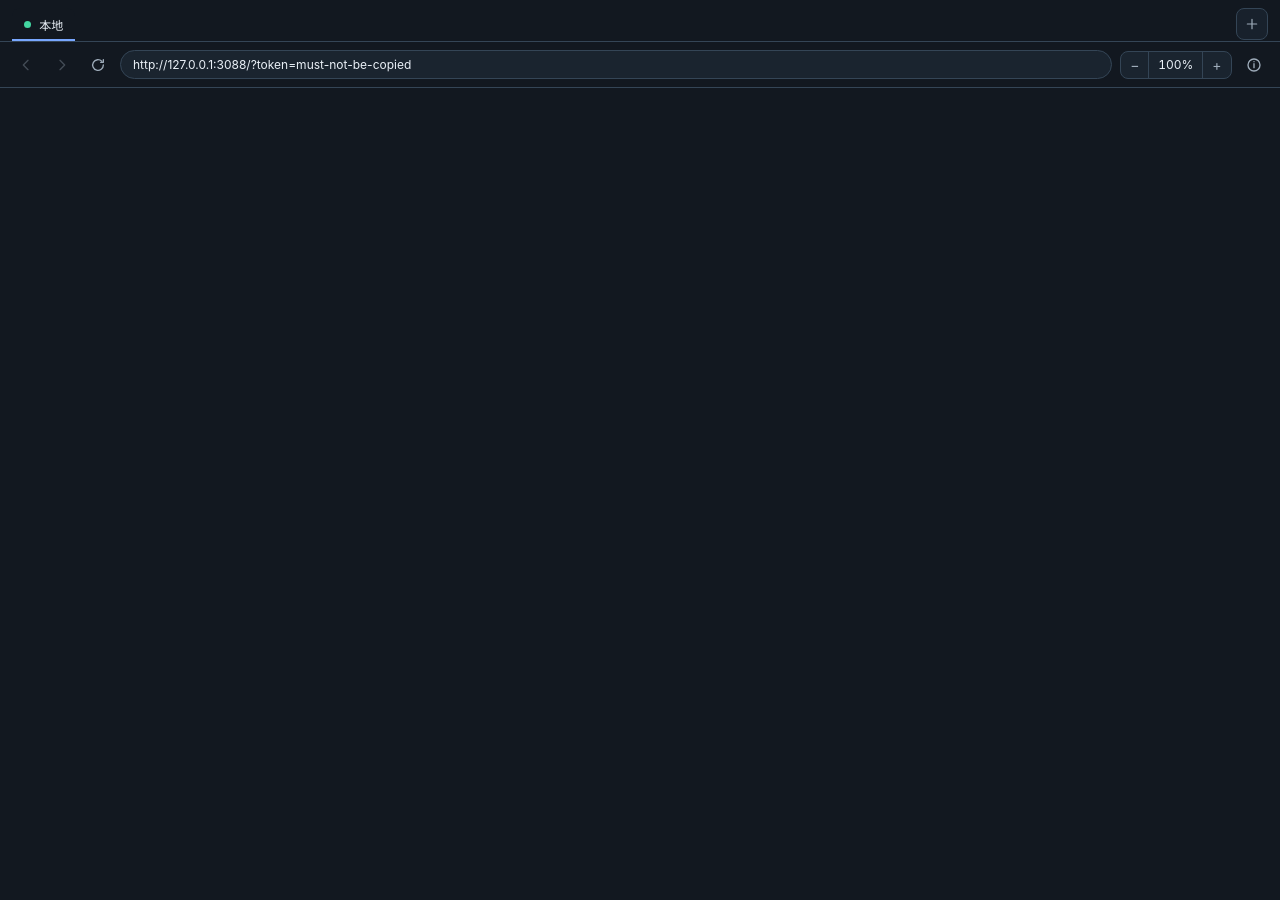
it: RuntimeTabsPanel rendering controls › lists a computer paired elsewhere while the menu stays open
Click the button with test id "runtime-add-tab" at (1252, 24), box [1236,8,1268,40]
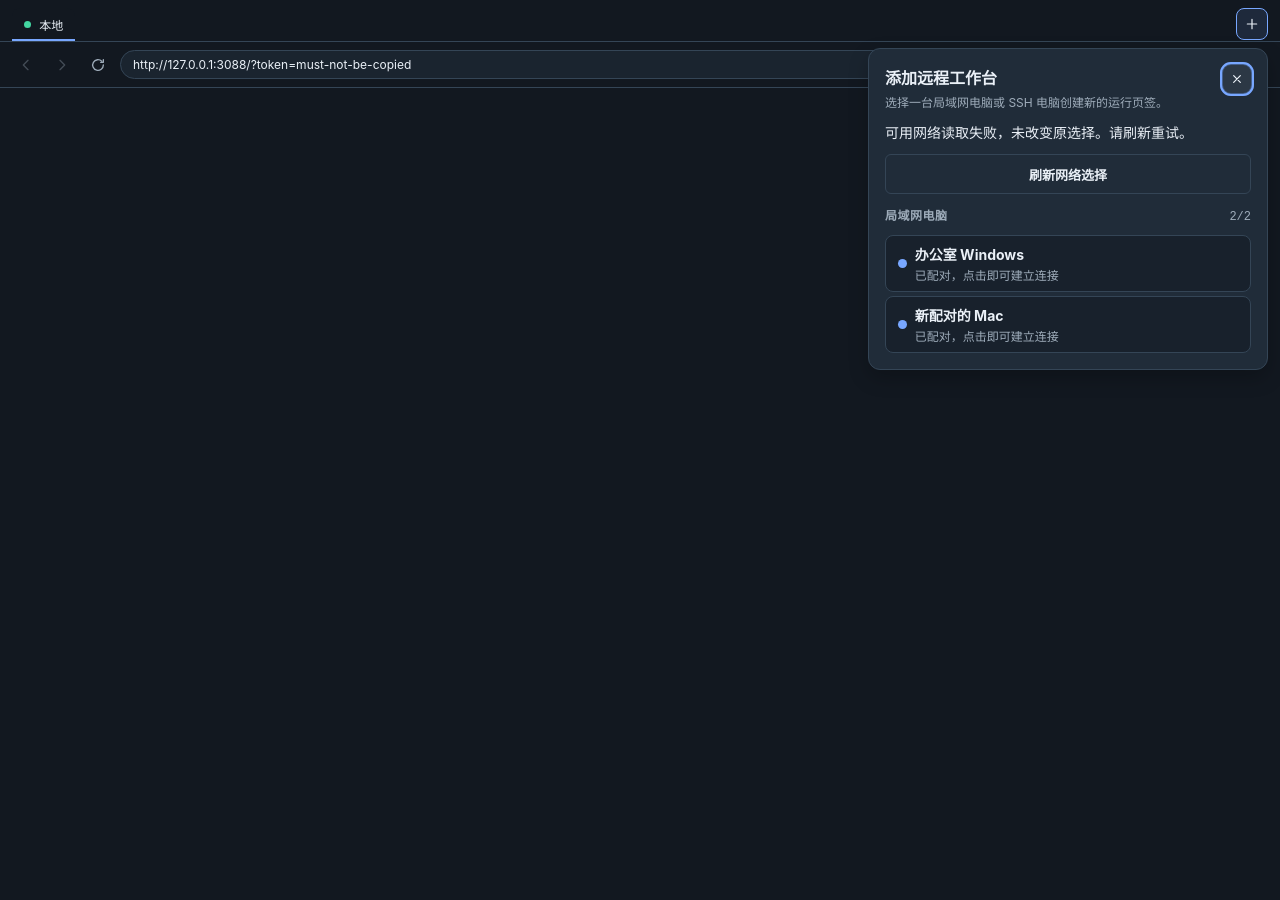
Result: the button with test id "runtime-add-peer-eeeeeeee-eeee-4eee-8eee-eeeeeeeeeeee" is shown at [885,296,1251,353]
